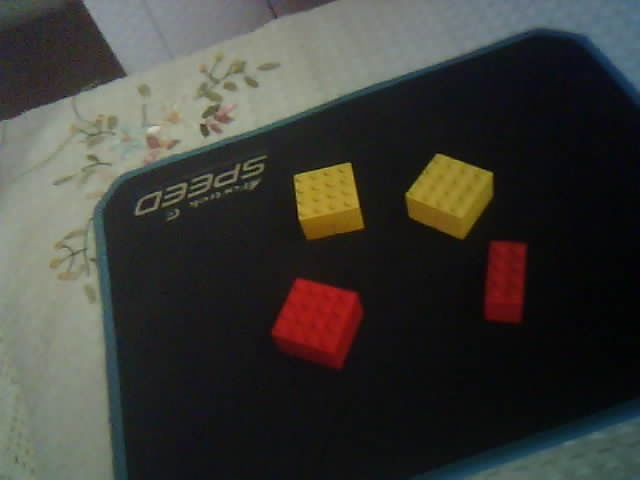lego: (271, 276, 364, 370), (403, 153, 495, 240), (292, 161, 365, 241), (483, 240, 528, 323)
